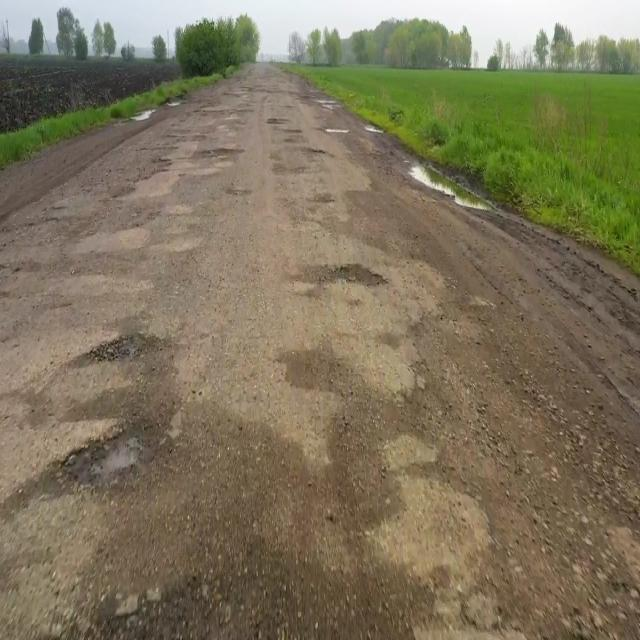road-pothole: (63, 424, 161, 488), (413, 159, 491, 210), (80, 332, 167, 364), (327, 259, 389, 289), (136, 103, 158, 123), (324, 127, 352, 137), (367, 123, 384, 136)
